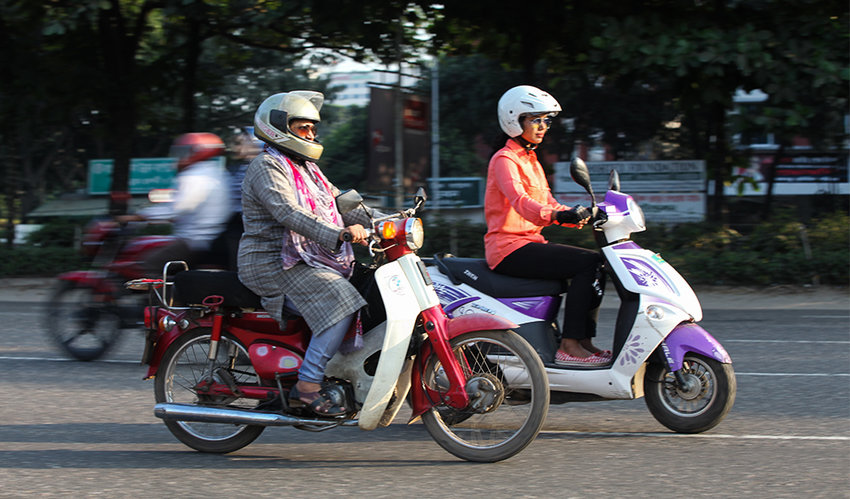motorbike: (40, 191, 166, 354)
scooter: (133, 190, 550, 465), (432, 158, 735, 432)
